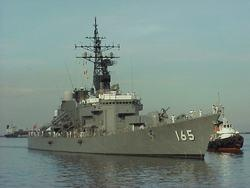otherboat: (209, 112, 250, 154)
warship: (25, 16, 216, 158)
